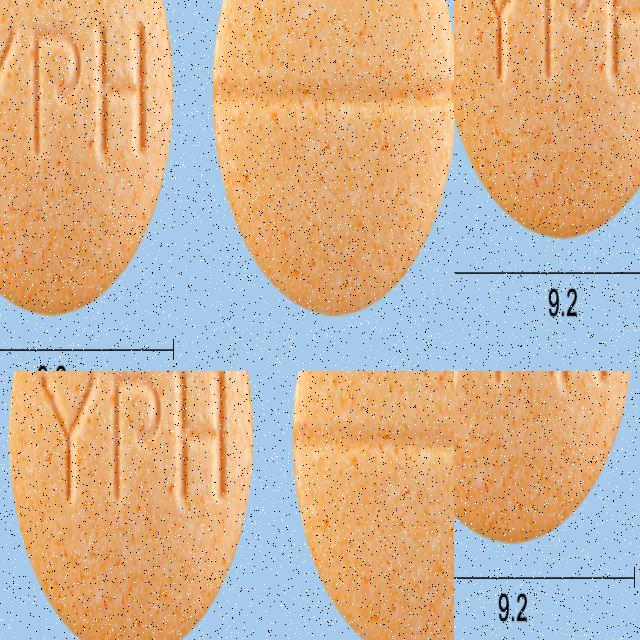Doxycycline Tab- Youngpoong: (454, 371, 635, 545)
Entecabell: (530, 0, 640, 371)
Levotacin: (11, 371, 254, 640), (290, 371, 454, 640)
Pyrocin Tab: (0, 124, 299, 371)
